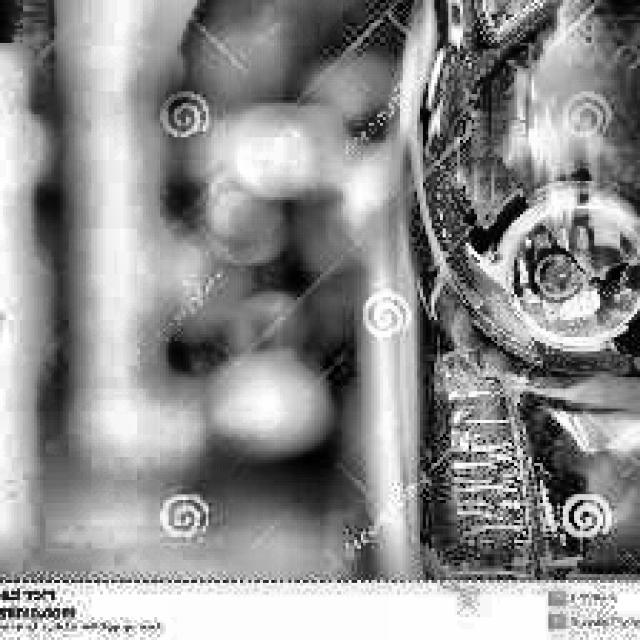tail_lamp: (465, 172, 640, 348)
